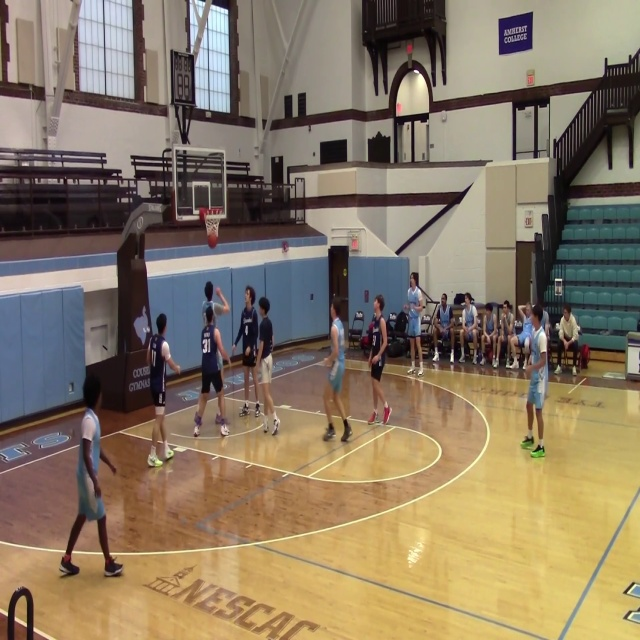Basketball: (207, 233, 218, 248), (199, 207, 207, 223), (213, 304, 223, 315)
